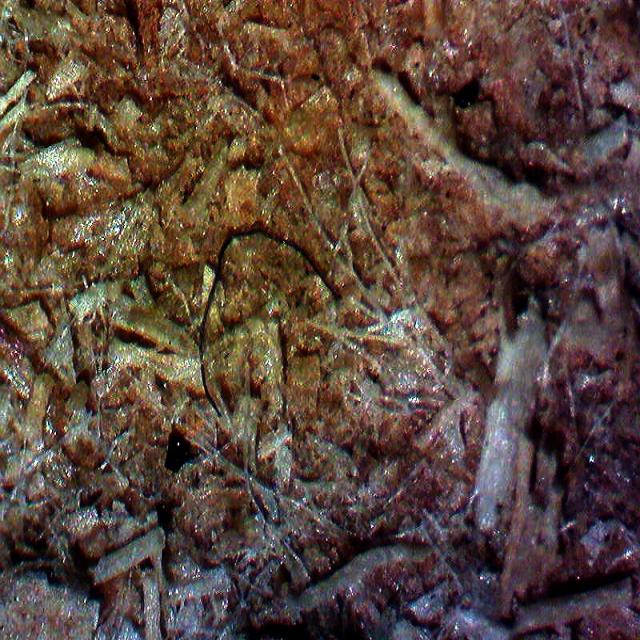microplastic: (131, 202, 347, 419)
